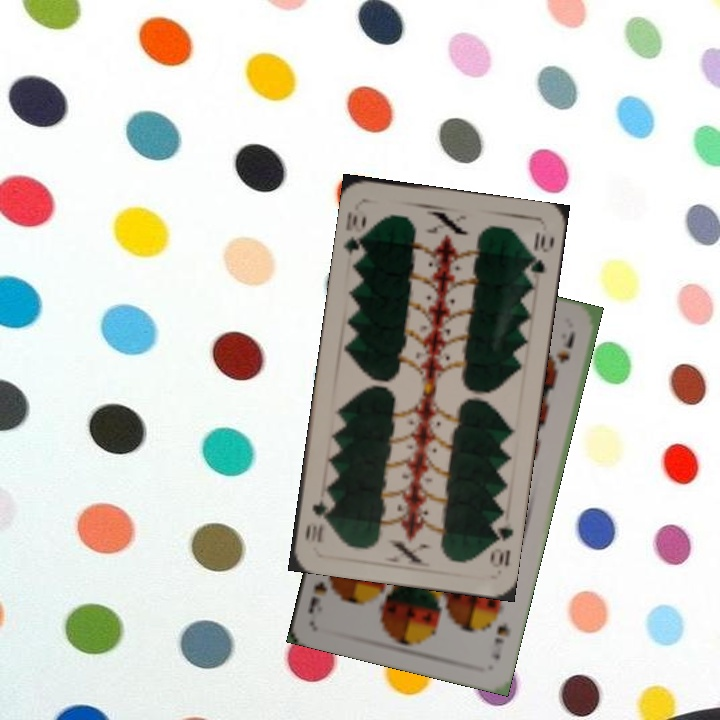G10: (485, 513, 516, 570), (340, 208, 370, 261)
S9: (487, 618, 512, 663)
